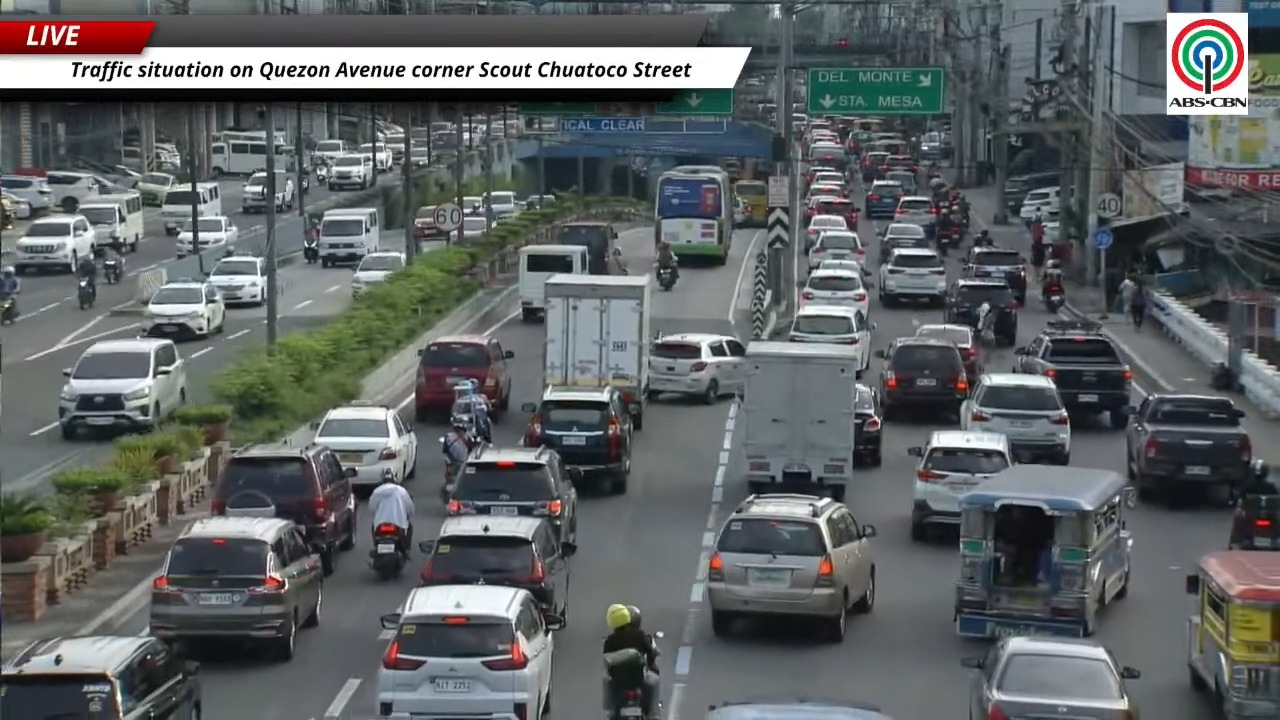bus: (654, 166, 733, 264), (210, 139, 266, 176), (210, 129, 266, 142)
car: (375, 584, 564, 719), (706, 495, 876, 642), (149, 517, 323, 660), (211, 443, 367, 575), (0, 634, 201, 719), (419, 516, 575, 616), (962, 636, 1138, 719), (447, 446, 581, 543), (58, 338, 186, 439), (522, 385, 634, 493), (909, 430, 1013, 541), (961, 373, 1070, 464), (313, 401, 417, 495), (414, 334, 513, 422), (876, 338, 968, 419), (649, 333, 746, 403), (787, 303, 873, 377), (5, 215, 95, 274), (944, 278, 1017, 345), (143, 279, 225, 337), (877, 247, 946, 305), (963, 247, 1027, 304), (916, 324, 984, 377), (706, 700, 892, 719), (799, 270, 868, 316), (208, 254, 266, 305), (175, 216, 238, 257), (351, 251, 405, 296), (808, 230, 865, 271), (242, 170, 295, 213), (855, 383, 882, 466), (0, 174, 52, 213), (893, 195, 938, 236), (327, 153, 375, 190), (1019, 185, 1060, 224), (805, 215, 850, 250), (810, 196, 859, 228), (864, 180, 905, 218), (134, 172, 177, 206), (809, 135, 847, 169), (413, 205, 450, 239), (0, 190, 33, 228), (880, 222, 928, 247), (815, 258, 866, 276), (883, 169, 917, 194), (861, 151, 888, 182), (884, 155, 919, 175), (805, 164, 838, 185), (461, 215, 488, 240), (806, 183, 845, 200), (733, 195, 750, 226), (810, 169, 845, 184), (409, 146, 430, 169)
motorcycle: (604, 648, 662, 719), (1228, 495, 1279, 550), (370, 523, 406, 580), (975, 303, 995, 347), (440, 462, 459, 504), (939, 224, 963, 256), (1043, 286, 1065, 314), (77, 279, 95, 309), (103, 258, 122, 284), (0, 296, 18, 323), (657, 266, 675, 290), (303, 236, 319, 263), (315, 164, 329, 184)
truck: (736, 341, 859, 500), (544, 273, 653, 429), (1126, 394, 1253, 504), (1013, 320, 1132, 428)
